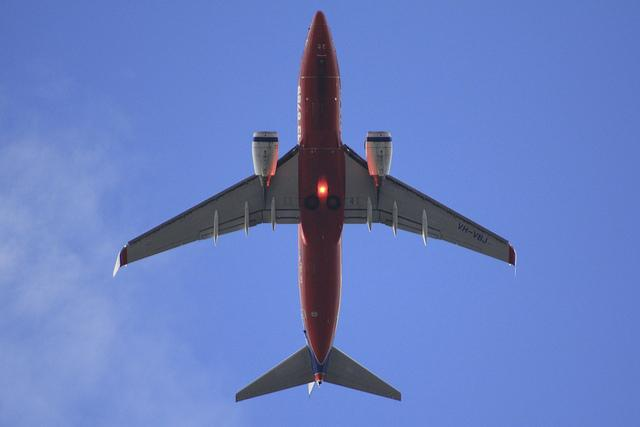airplane: (110, 9, 519, 404)
